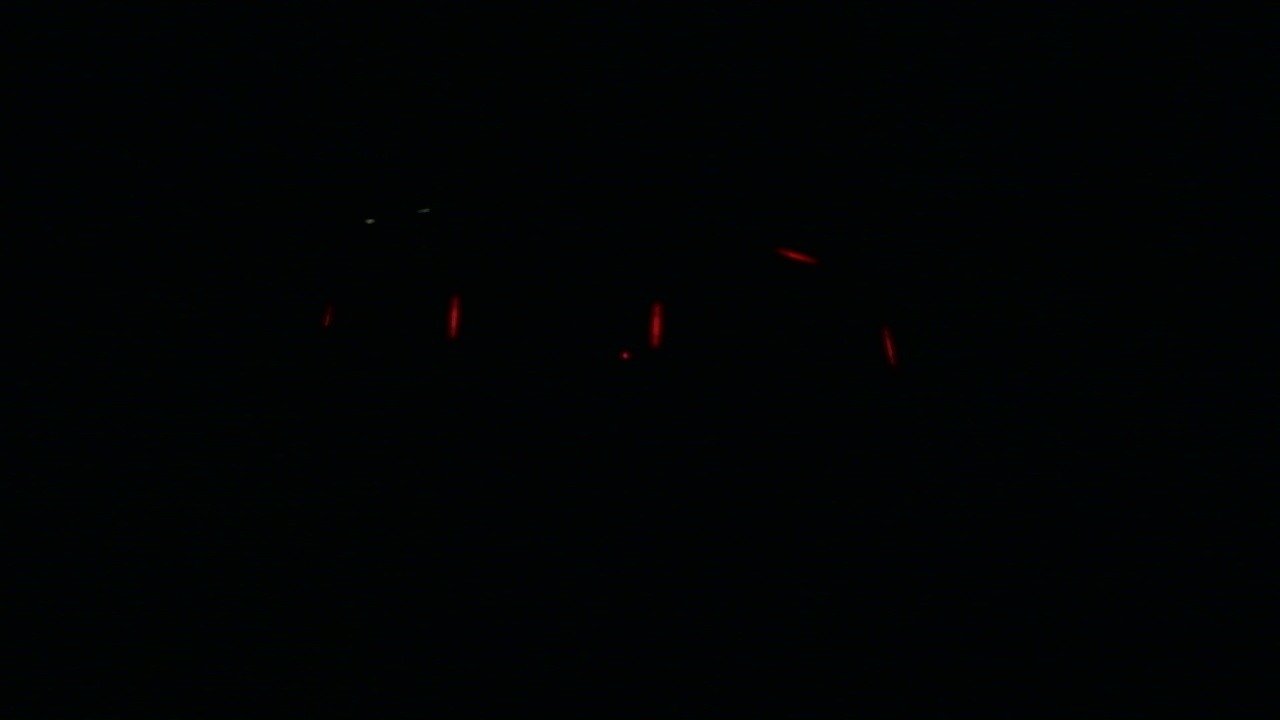lamp: (444, 292, 458, 347), (648, 303, 661, 341)
notpair2: (649, 303, 899, 373)
pair2: (449, 294, 663, 346)
